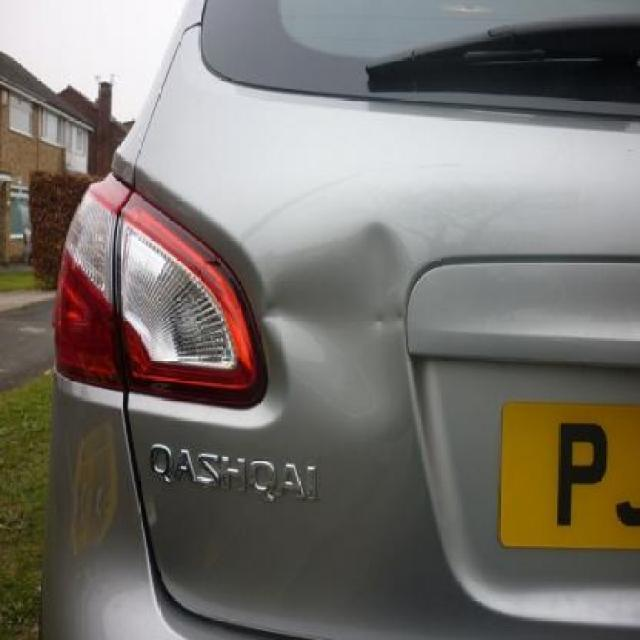minor: (266, 225, 431, 442)
